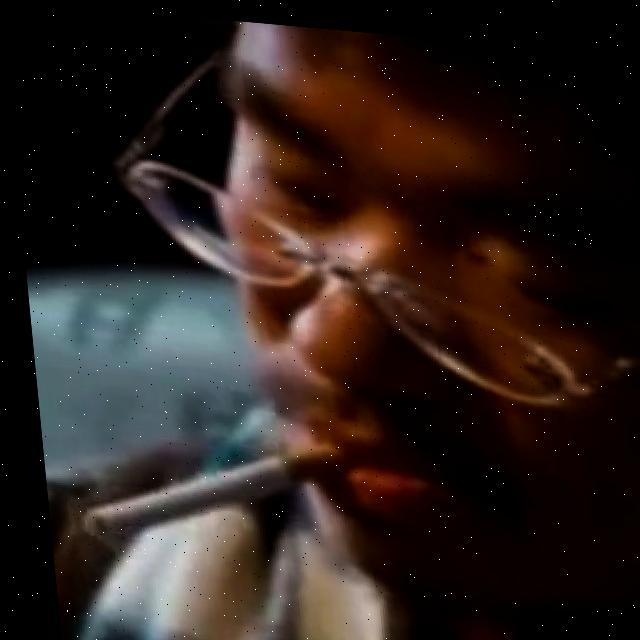cigarette: (65, 425, 343, 554)
